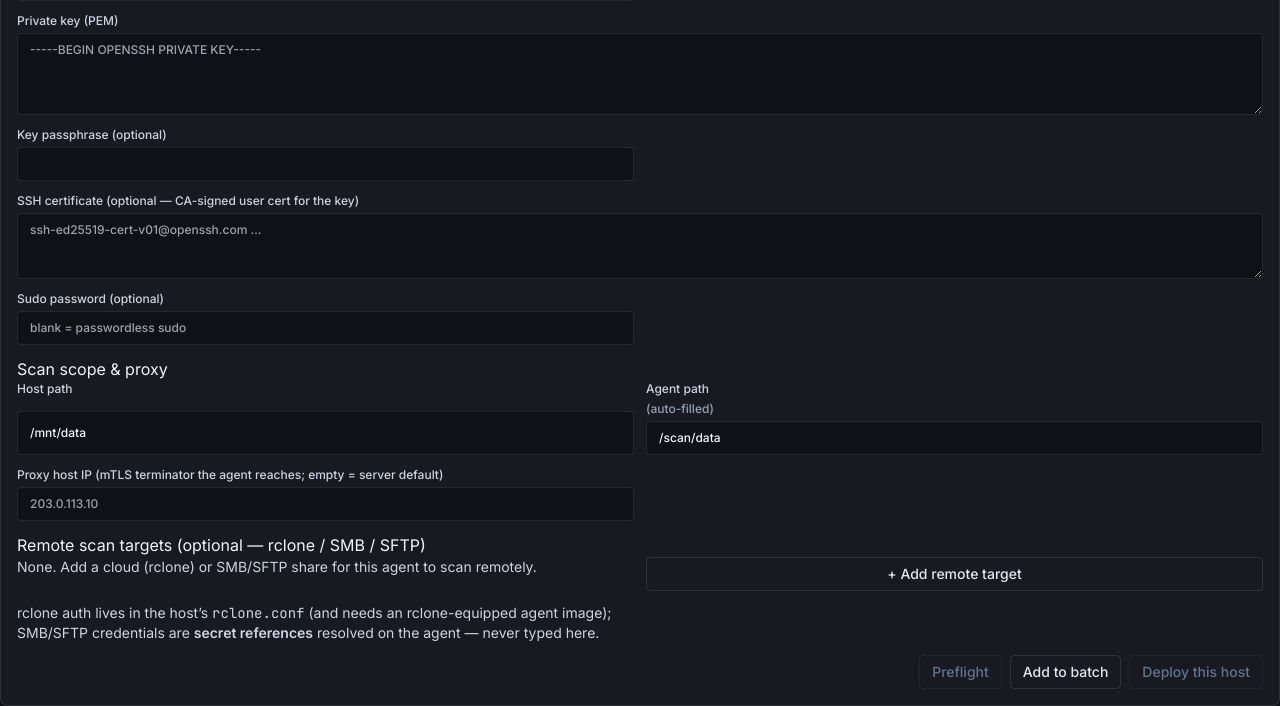
it: Deploy page › auto-derives the agent path from the host path (deploy-wizard auto-derive, P2b)
(page scrolled)
Replace the text in the field labelled "Host path" with "/mnt/tank/" at x=326, y=433, box x1=17 y1=411 x2=634 y2=455
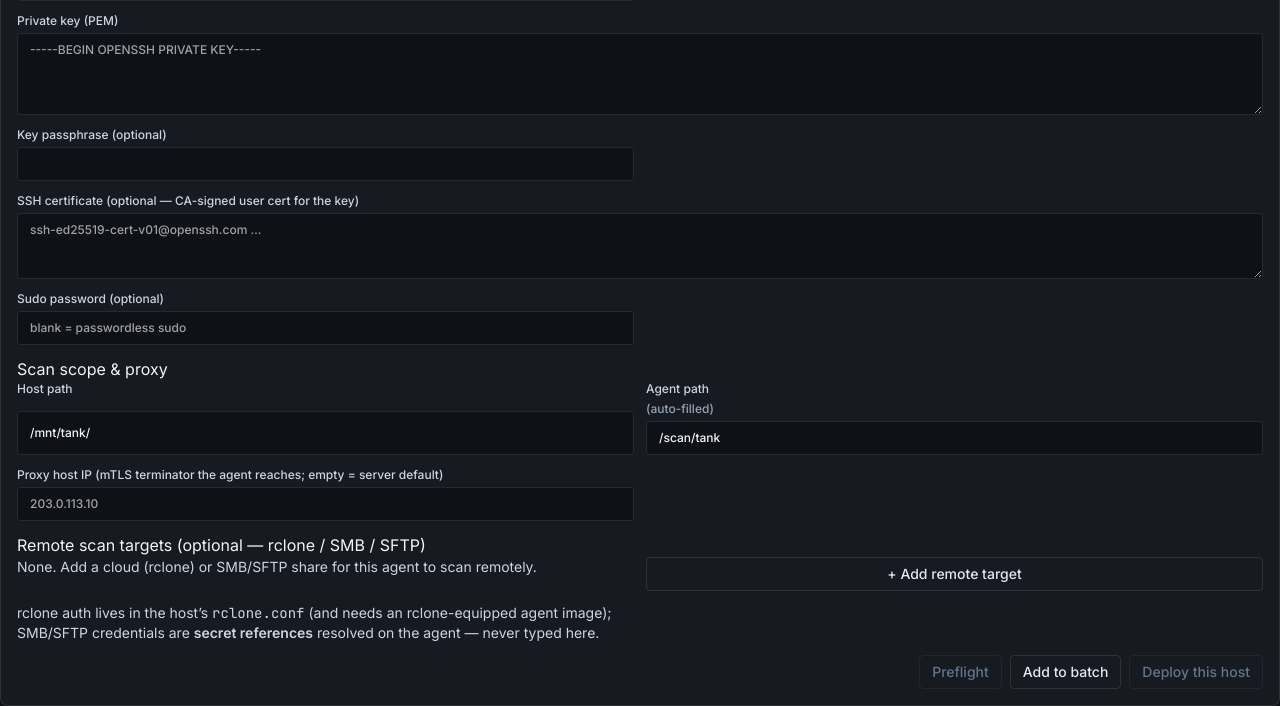
Now the field labelled "Agent path (auto-filled)" holds "/scan/tank", box x1=646 y1=421 x2=1263 y2=455
